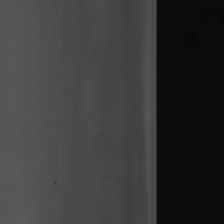inclusion: (50, 176, 60, 191)
